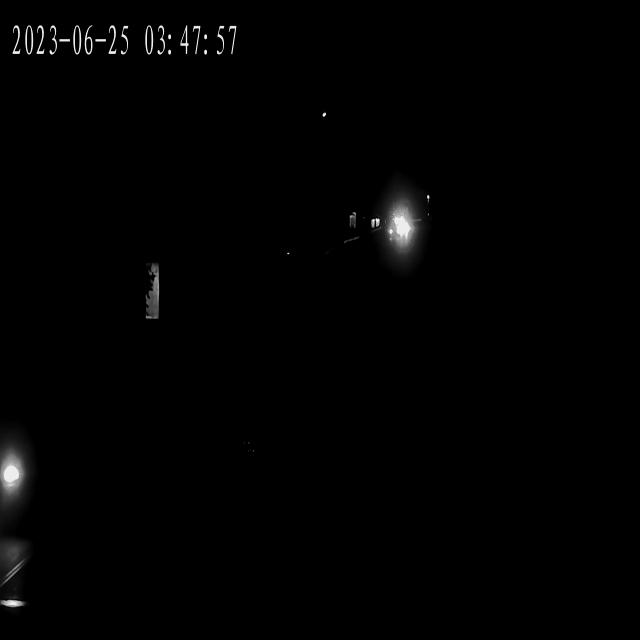Car: (0, 412, 49, 519), (394, 223, 413, 246)
